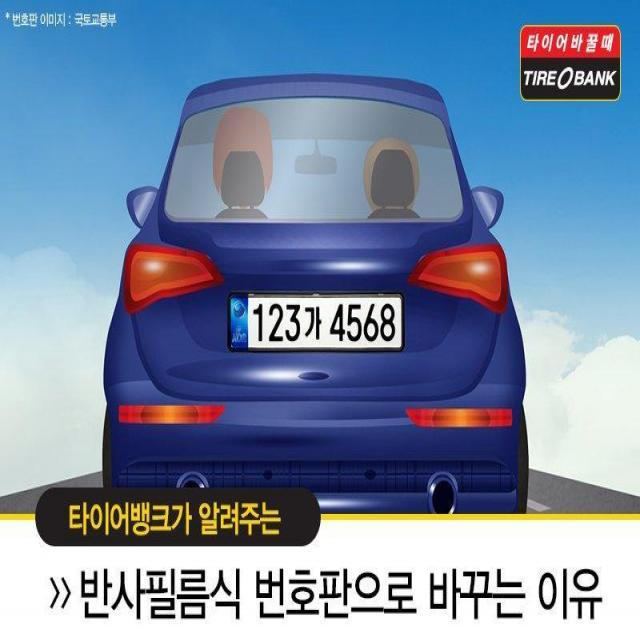car: (99, 70, 534, 510)
illegal_plate: (225, 288, 408, 359)
